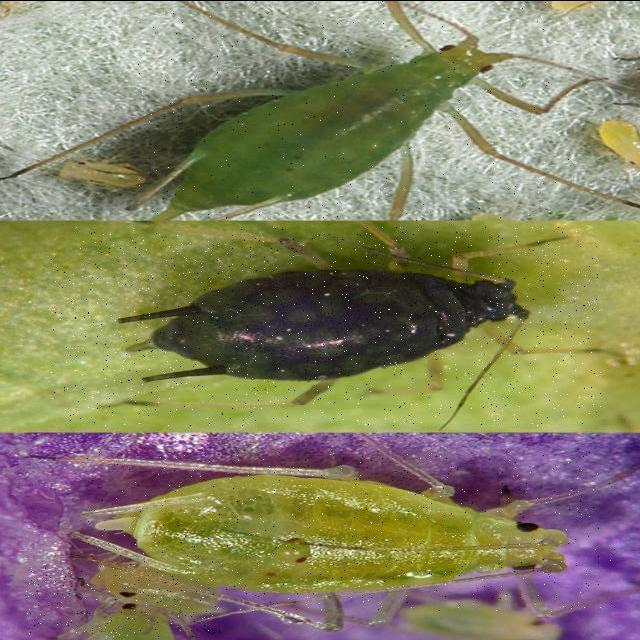aphid: (51, 226, 601, 425), (135, 0, 573, 220), (87, 451, 617, 611), (26, 567, 221, 636)
